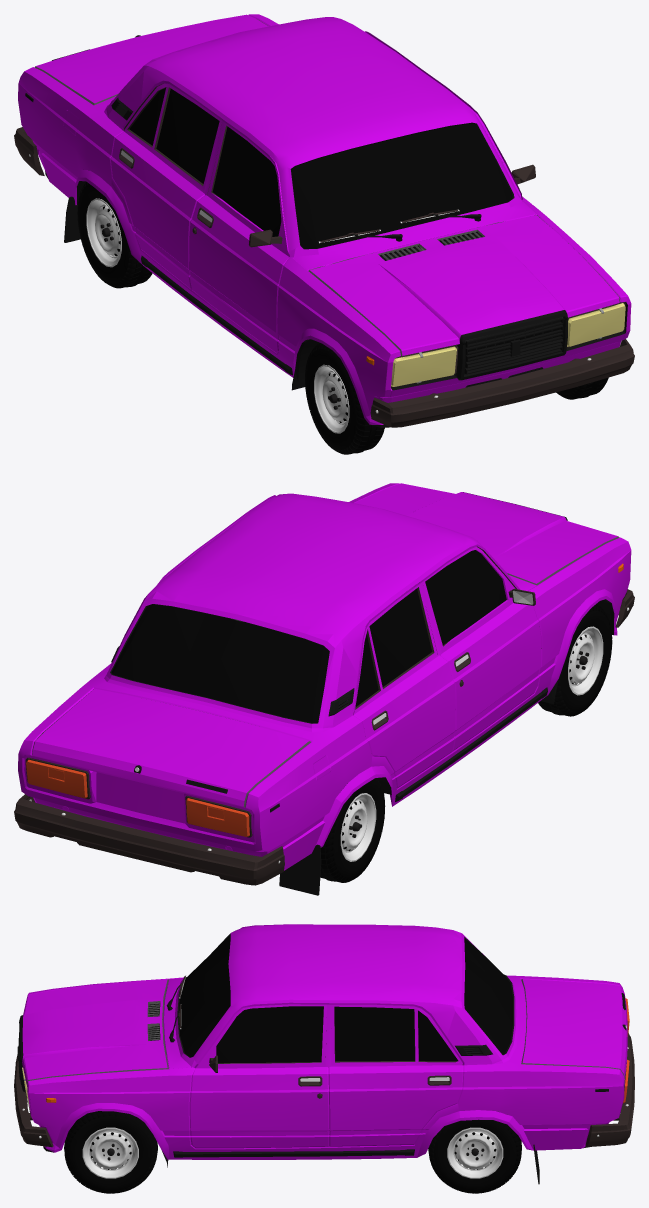
The model's file is LadaNew.fbx.
The picture shows the model from 3 angles, top to bottom: view 1: azimuth 30°, elevation 25°; view 2: azimuth 150°, elevation 25°; view 3: azimuth 270°, elevation 25°; orthographic projection. The views are drawn at different scales.
Visible parts, largest first — view 1: Main, Kapot, Main Window, Right Front Door, Right Back Door, Right Front Wheel, Right Front Window, Right Back Wheel, Right Back Window, Right Front Light Glass, Left Front Light Glass, Right Back2 WIndow; view 2: Main, Main Back WIndow, Kapot, Right Front Door, Right Back Door, Right Front Window, Right Back Wheel, Right Front Wheel, Right Back Window, Right Back Light Glass, Left Back Light, Right Back2 WIndow; view 3: Main, Kapot, Left Front Door, Left Back Door, Left Front Wheel, Left Back Wheel, Left Front Window, Left Back Window, Main Window, Main Back WIndow, Left Back2 Window.
Part boxes in pixels (<box>): Main: <box>14,14,634,427</box>; Kapot: <box>308,214,620,355</box>; Main Window: <box>291,123,512,248</box>; Right Front Door: <box>189,123,288,353</box>; Right Back Door: <box>110,83,222,289</box>; Right Front Wheel: <box>305,343,384,454</box>; Right Front Window: <box>212,126,281,236</box>; Right Back Wheel: <box>77,182,152,288</box>; Right Back Window: <box>156,88,219,183</box>; Right Front Light Glass: <box>391,345,458,387</box>; Left Front Light Glass: <box>566,302,625,347</box>; Right Back2 WIndow: <box>129,88,165,145</box>; Main: <box>14,483,634,895</box>; Main Back WIndow: <box>111,604,329,723</box>; Kapot: <box>354,483,619,585</box>; Right Front Door: <box>422,547,541,751</box>; Right Back Door: <box>353,582,455,788</box>; Right Front Window: <box>425,550,506,645</box>; Right Back Wheel: <box>320,778,385,882</box>; Right Front Wheel: <box>538,604,612,716</box>; Right Back Window: <box>369,588,431,686</box>; Right Back Light Glass: <box>185,795,252,837</box>; Left Back Light: <box>25,757,90,799</box>; Right Back2 WIndow: <box>355,634,378,707</box>; Main: <box>14,924,634,1184</box>; Kapot: <box>19,979,168,1083</box>; Left Front Door: <box>189,1004,329,1148</box>; Left Back Door: <box>328,1004,463,1146</box>; Left Front Wheel: <box>64,1111,157,1193</box>; Left Back Wheel: <box>428,1119,521,1193</box>; Left Front Window: <box>216,1006,323,1063</box>; Left Back Window: <box>334,1006,414,1061</box>; Main Window: <box>178,935,230,1057</box>; Main Back WIndow: <box>464,938,512,1054</box>; Left Back2 Window: <box>418,1010,458,1061</box>.
Size of the model in its own units: 681 by 548 by 1597.
